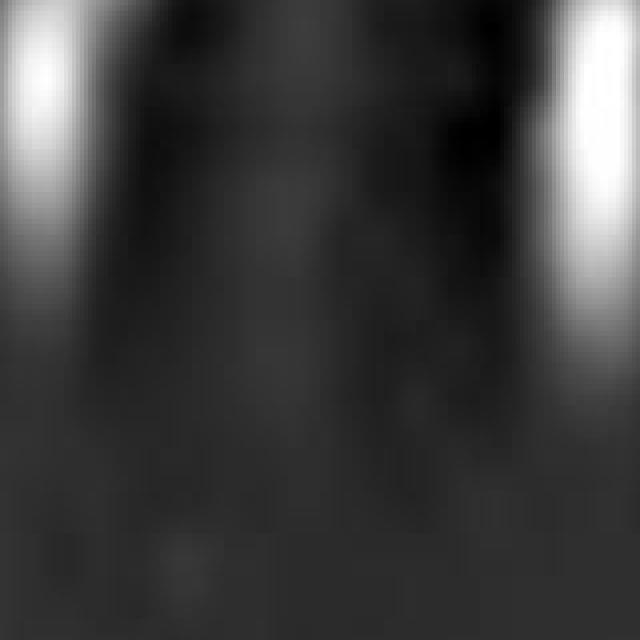person: (525, 1, 640, 428), (1, 1, 157, 305)
